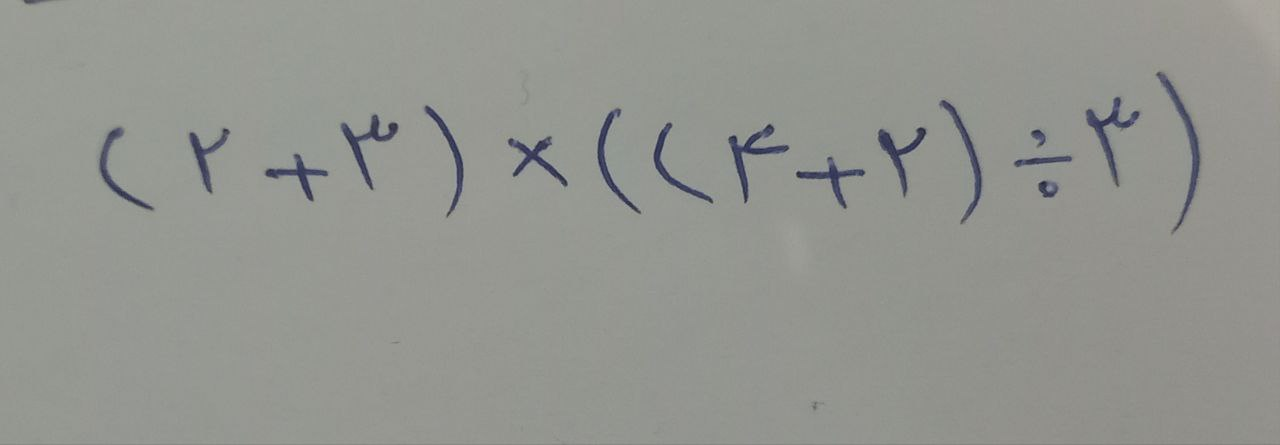character: (1156, 70, 1204, 246), (937, 100, 983, 224), (1085, 98, 1149, 186), (596, 108, 643, 219), (422, 102, 465, 222), (100, 125, 157, 214), (729, 124, 791, 202), (655, 122, 713, 203), (339, 113, 399, 191), (1014, 129, 1073, 198), (878, 128, 935, 194), (796, 157, 864, 208), (507, 136, 575, 186), (267, 150, 329, 200), (188, 128, 231, 195)
